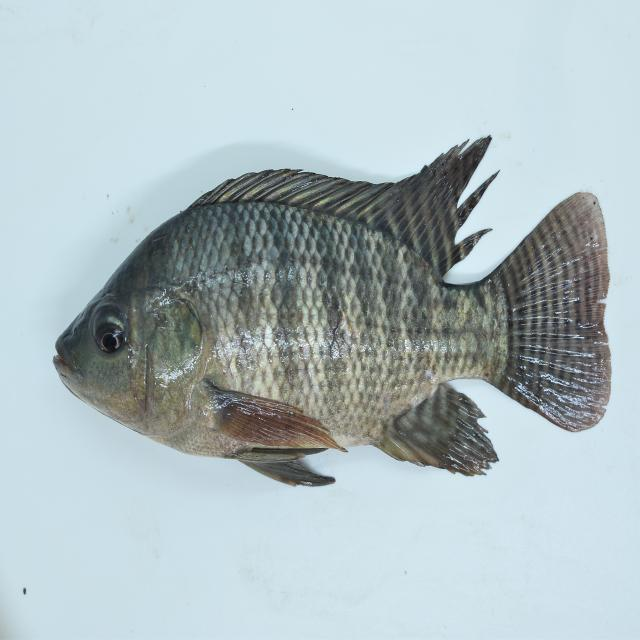Healthy Fish: (52, 134, 616, 486)
